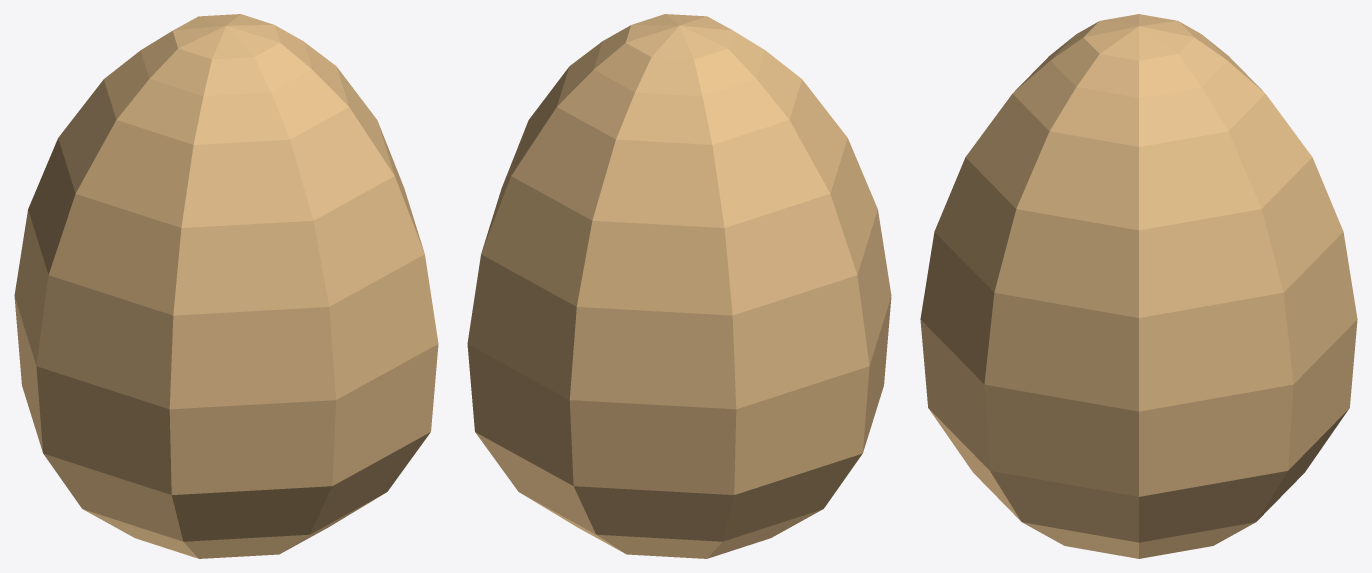
Rendered from Egg.fbx.
3 views of the same model, side by side, from view 1: azimuth 30°, elevation 25°; view 2: azimuth 150°, elevation 25°; view 3: azimuth 270°, elevation 25° (orthographic).
Visible parts, largest first — view 1: 球; view 2: 球; view 3: 球.
Boxes of the visible parts, x1,y1,x2,y2 form: 球: (14,14,438,558); 球: (467,14,891,558); 球: (920,14,1357,558).
Bounding box in the file's own units: 0.5991 × 0.7702 × 0.5991.
